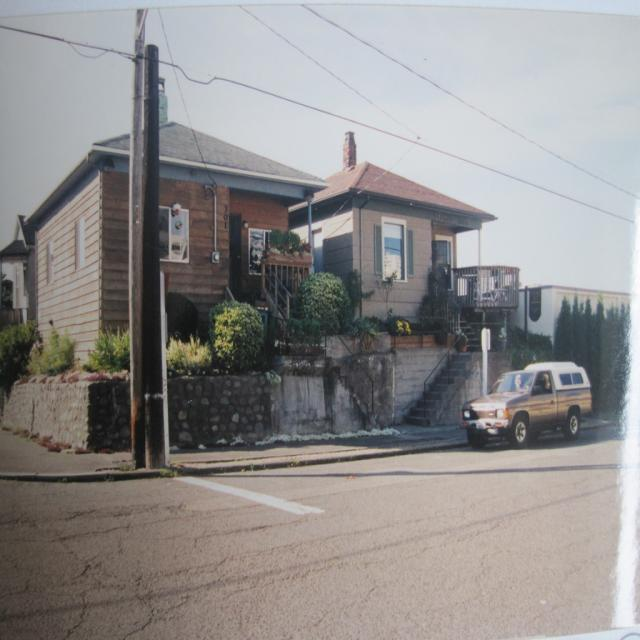car: (461, 355, 596, 452)
